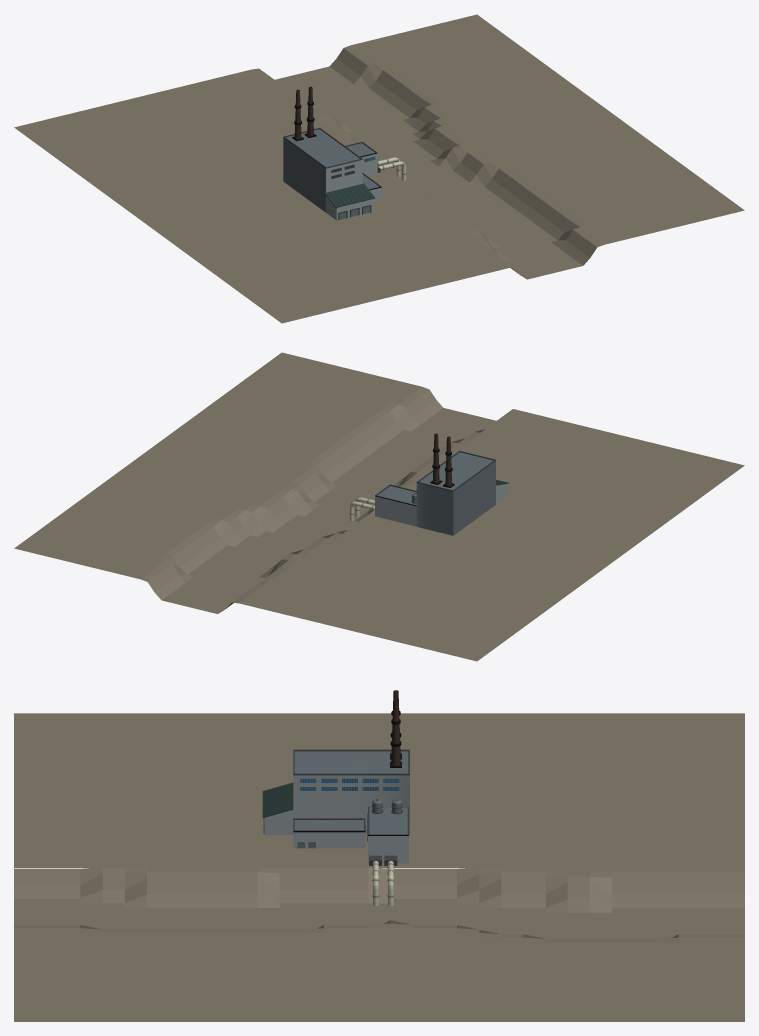
Rendered from fac10.fbx.
3 views of the same model, one above another, from view 1: azimuth 30°, elevation 25°; view 2: azimuth 150°, elevation 25°; view 3: azimuth 270°, elevation 25° (orthographic). The views are drawn at different scales.
Visible parts, largest first — view 1: riverbed.001, riverbed, mainBuilding, Cube.003, side Roof; view 2: riverbed.001, riverbed, mainBuilding, Cube.003, building 3, building 3 roof; view 3: riverbed.001, riverbed, mainBuilding, Cube.003, Cube.002, building 2 roof, building 3 roof, building 3, side Roof, windows side, side building, Cylinder.
Boxes of the visible parts, left/top/right/bottom form: riverbed.001: left=246, top=14, right=744, bottom=279; riverbed: left=14, top=71, right=513, bottom=323; mainBuilding: left=283, top=137, right=362, bottom=212; Cube.003: left=283, top=128, right=362, bottom=168; side Roof: left=324, top=183, right=374, bottom=207; riverbed.001: left=14, top=352, right=496, bottom=613; riverbed: left=245, top=409, right=744, bottom=661; mainBuilding: left=416, top=461, right=495, bottom=535; Cube.003: left=416, top=451, right=495, bottom=491; building 3: left=375, top=496, right=416, bottom=526; building 3 roof: left=375, top=484, right=416, bottom=506; riverbed.001: left=14, top=867, right=744, bottom=1021; riverbed: left=14, top=713, right=744, bottom=867; mainBuilding: left=293, top=775, right=409, bottom=835; Cube.003: left=293, top=749, right=409, bottom=775; Cube.002: left=293, top=832, right=365, bottom=848; building 2 roof: left=293, top=818, right=365, bottom=832; building 3 roof: left=368, top=806, right=408, bottom=835; building 3: left=368, top=836, right=408, bottom=863; side Roof: left=262, top=782, right=293, bottom=817; windows side: left=300, top=778, right=399, bottom=790; side building: left=264, top=810, right=293, bottom=835; Cylinder: left=390, top=698, right=401, bottom=765.
Size of the model in its own units: 25177 by 5816 by 25219.
1 material, 1 textured.
